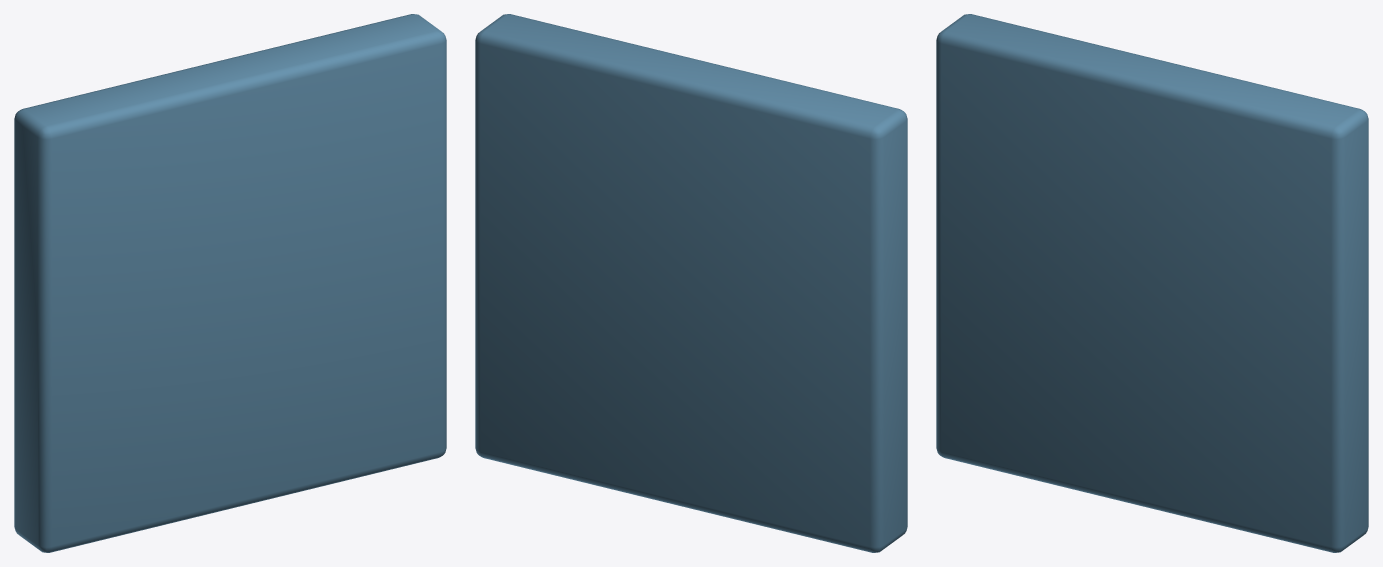
File: acoustic-partition.glb
The picture shows the model from 3 angles, left to right: view 1: azimuth 30°, elevation 25°; view 2: azimuth 150°, elevation 25°; view 3: azimuth 330°, elevation 25°; orthographic projection.
Parts seen in each view (by area): view 1: panel.001; view 2: panel.001; view 3: panel.001.
Boxes of the visible parts, <box> form: panel.001: <box>14,14,446,552</box>; panel.001: <box>475,14,907,552</box>; panel.001: <box>936,14,1368,552</box>.
Bounding box in the file's own units: 1.6 × 1.6 × 0.22.
